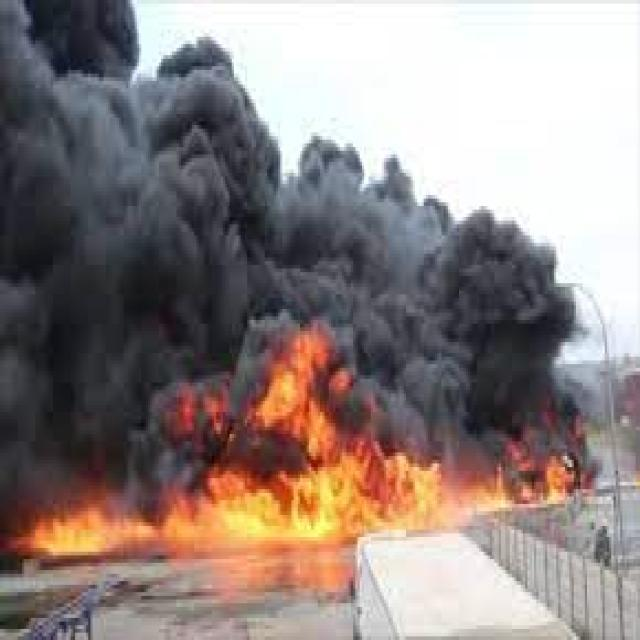Fire: (2, 468, 260, 561), (260, 324, 360, 552), (448, 439, 578, 522), (361, 428, 447, 539), (168, 382, 234, 448)
Smoke: (3, 0, 142, 465), (362, 200, 566, 436), (140, 38, 259, 382), (262, 118, 362, 328), (142, 379, 172, 467), (364, 158, 421, 202), (235, 386, 260, 468), (174, 448, 238, 468)
